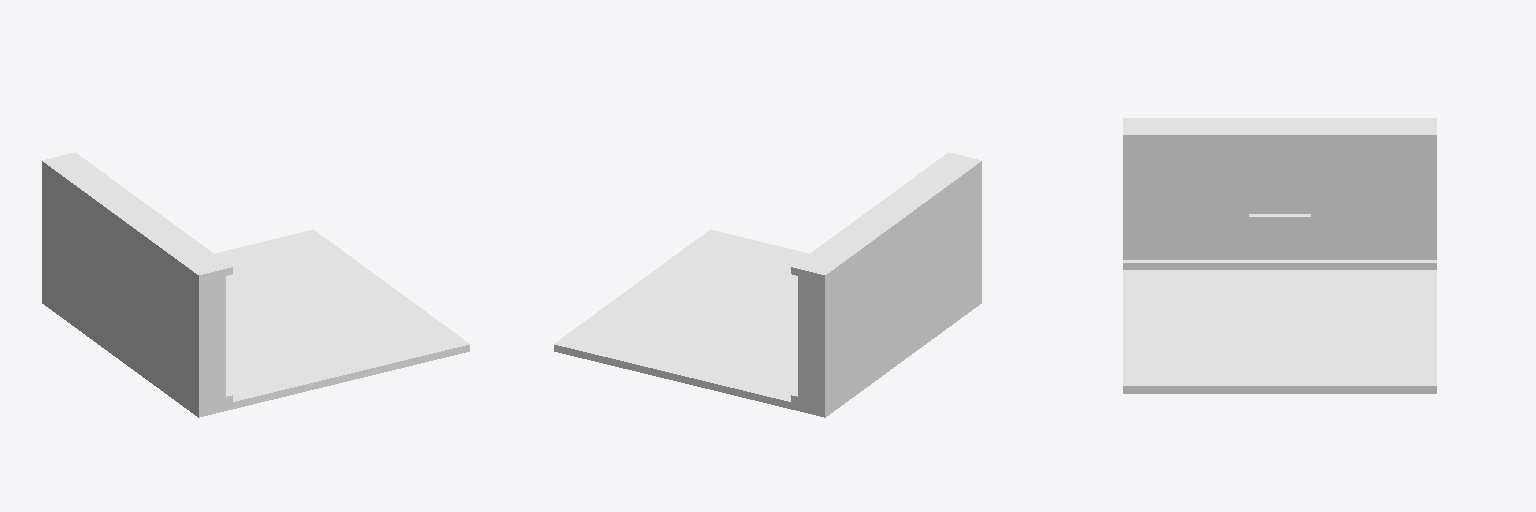
Rendered from interior_concrete_lighted_40x40x20-2.obj.
3 views of the same model, side by side, from view 1: azimuth 30°, elevation 25°; view 2: azimuth 150°, elevation 25°; view 3: azimuth 270°, elevation 25° (orthographic).
Visible parts, largest first — view 1: object 1; view 2: object 1; view 3: object 1.
Part boxes in pixels (left/top/right/bottom): object 1: left=42, top=152, right=469, bottom=417; object 1: left=554, top=152, right=981, bottom=417; object 1: left=1123, top=118, right=1436, bottom=393.
Bounding box in the file's own units: 4 × 2 × 4.